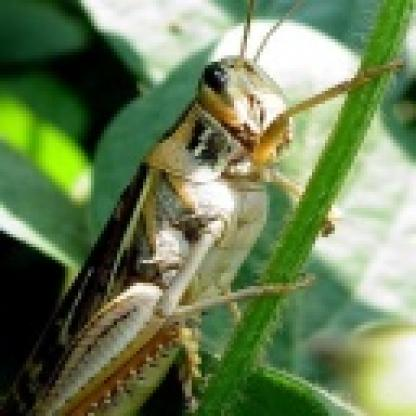grasshopper: (6, 0, 325, 414)
